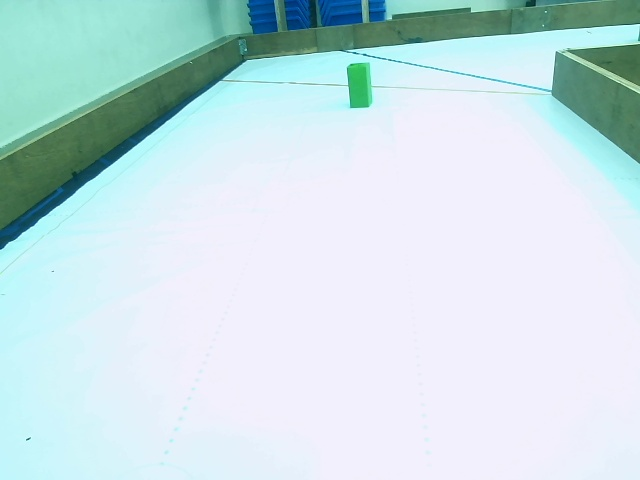green: (348, 64, 371, 106)
